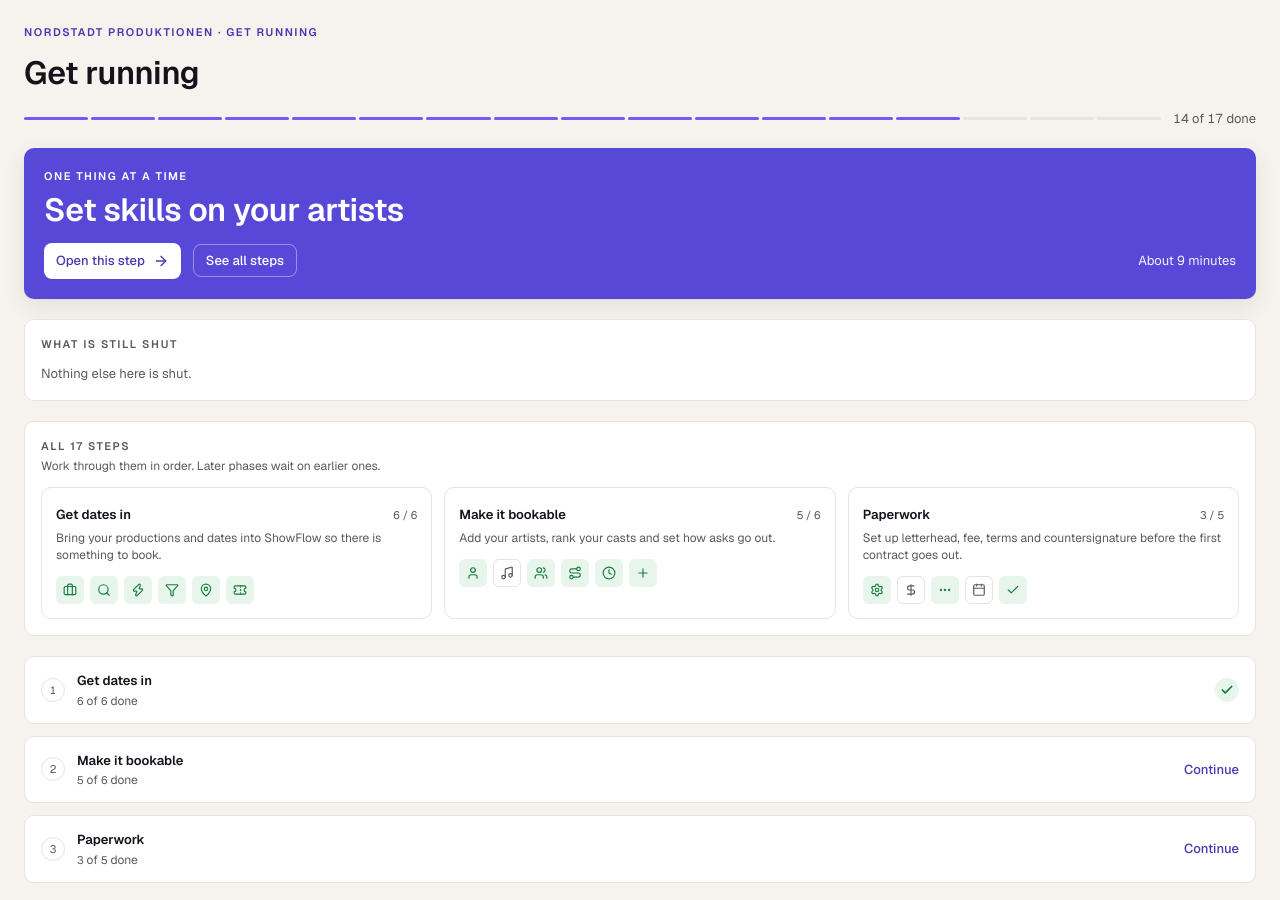
Test: GetRunningBoardV3 › advance and phase handoff › does not bounce a viewer forward off a step that was already done when they opened it
The image size is (1280, 900).
Later steps or results of the test are not shown.
Click the button with test id "phase-row-bookable". click: [130, 760]
box: [25,736,1255,802]
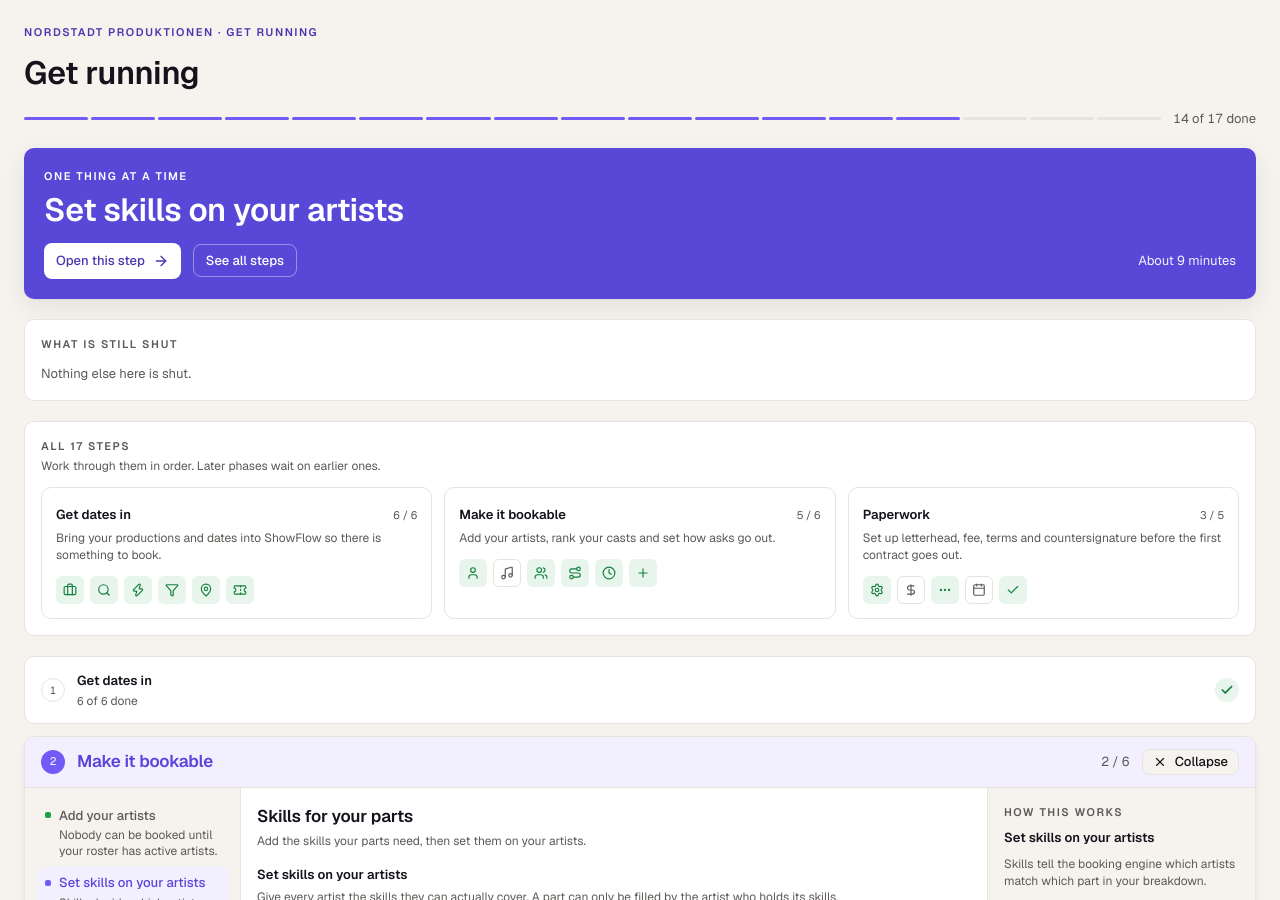
Click the button "Add your artists". click: [132, 832]
box: [37,800,228,865]
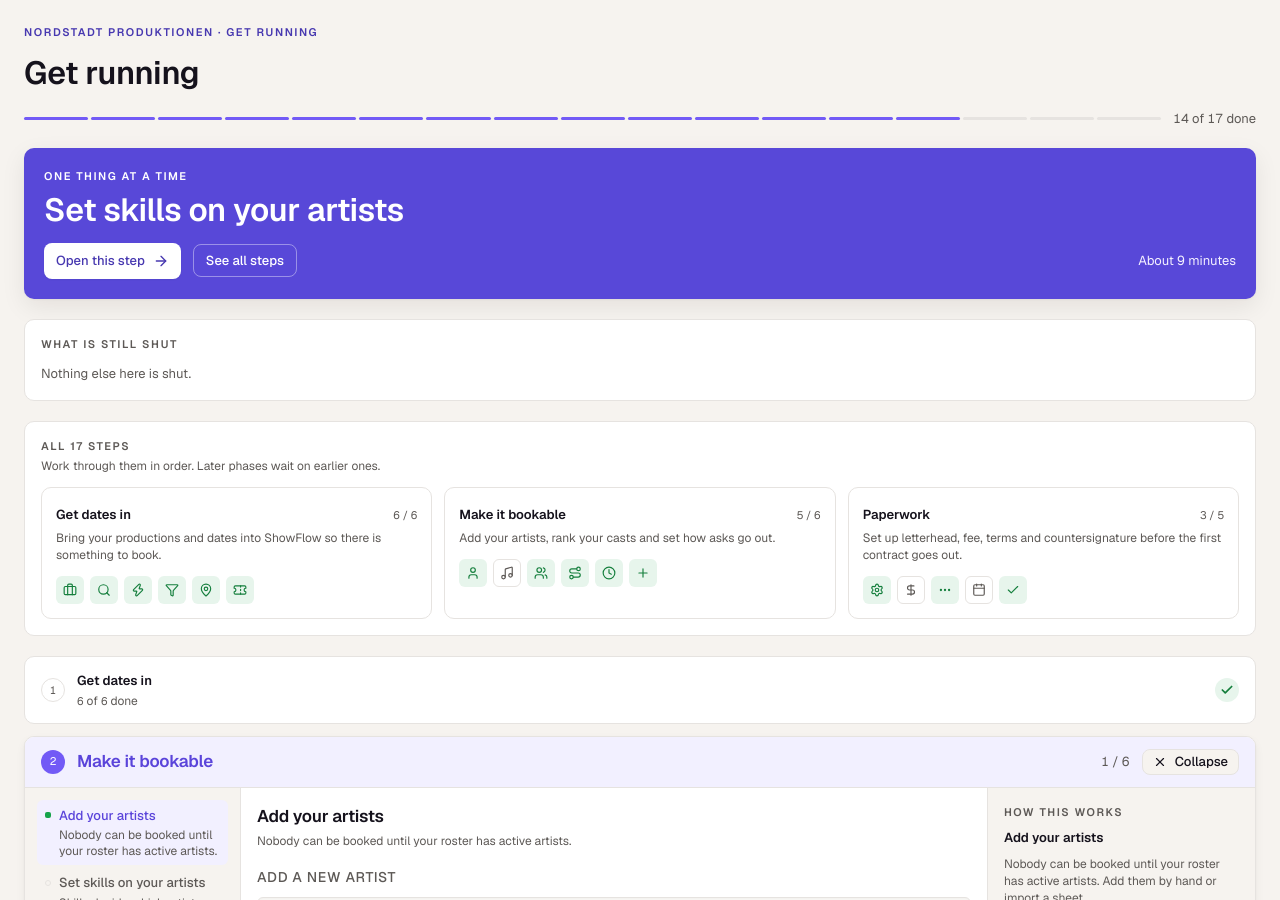
Expected: the text "Add a new artist" is shown, [257,868,396,886]
